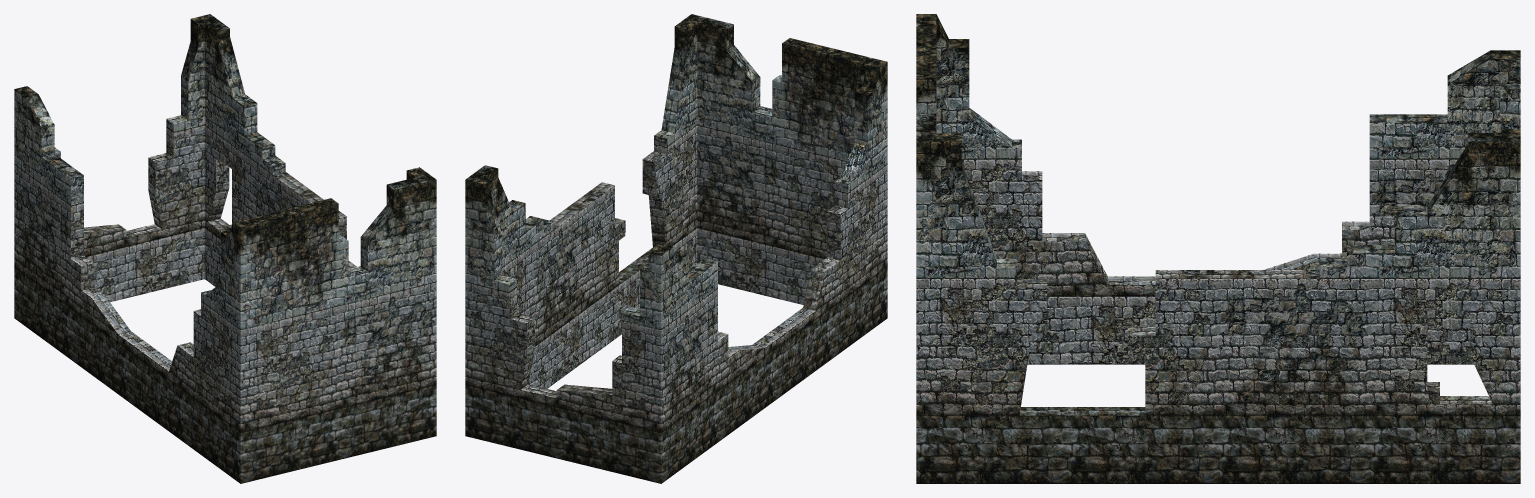
The picture shows the model from 3 angles, left to right: view 1: azimuth 30°, elevation 25°; view 2: azimuth 150°, elevation 25°; view 3: azimuth 270°, elevation 25°; orthographic projection. The views are drawn at different scales.
Visible parts, largest first — view 1: hr_h2; view 2: hr_h2; view 3: hr_h2.
Boxes of the visible parts, x1,y1,x2,y2 form: hr_h2: (14, 14, 436, 483); hr_h2: (465, 14, 887, 483); hr_h2: (916, 14, 1520, 483).
Size of the model in its own units: 6 by 7.5 by 12.
5 materials, 5 textured.
